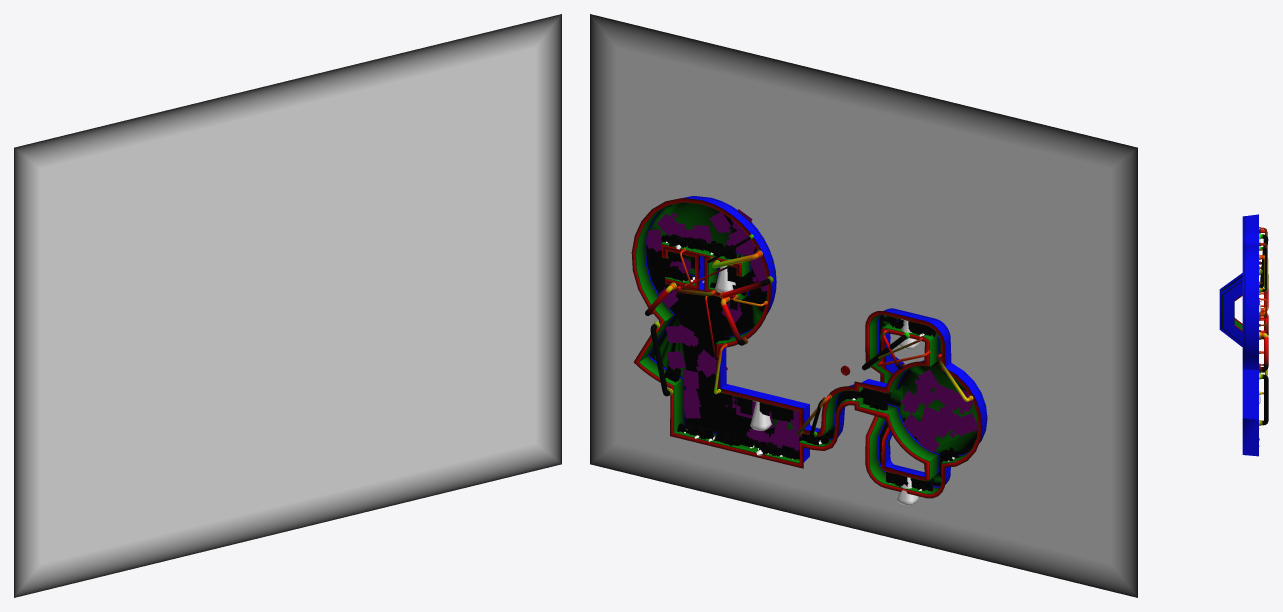
The model's file is lvlmodel_lvl3.fbx.
3 renders of one model, left to right at view 1: azimuth 30°, elevation 25°; view 2: azimuth 150°, elevation 25°; view 3: azimuth 270°, elevation 25°, orthographic. The views are drawn at different scales.
Visible parts, largest first — view 1: model_geometry; view 2: model_geometry; view 3: model_geometry.
Boxes of the visible parts, left/top/right/bottom form: model_geometry: left=14, top=14, right=561, bottom=597; model_geometry: left=590, top=14, right=1137, bottom=597; model_geometry: left=1219, top=214, right=1268, bottom=456.
Size of what is drawn, in the model's own units: 8885 by 6978 by 1763.
